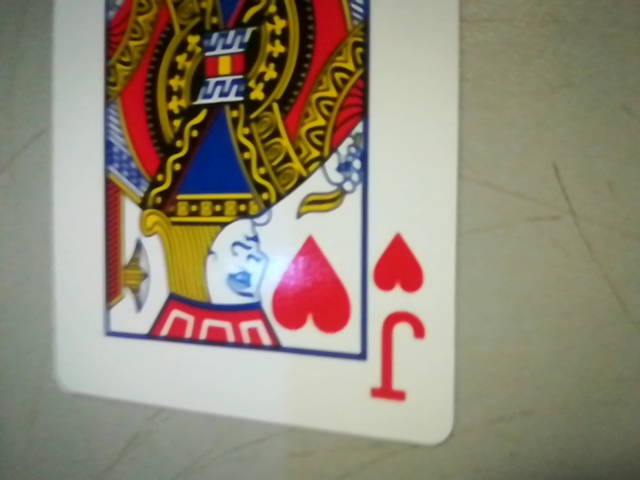hx j: (359, 229, 443, 415)
